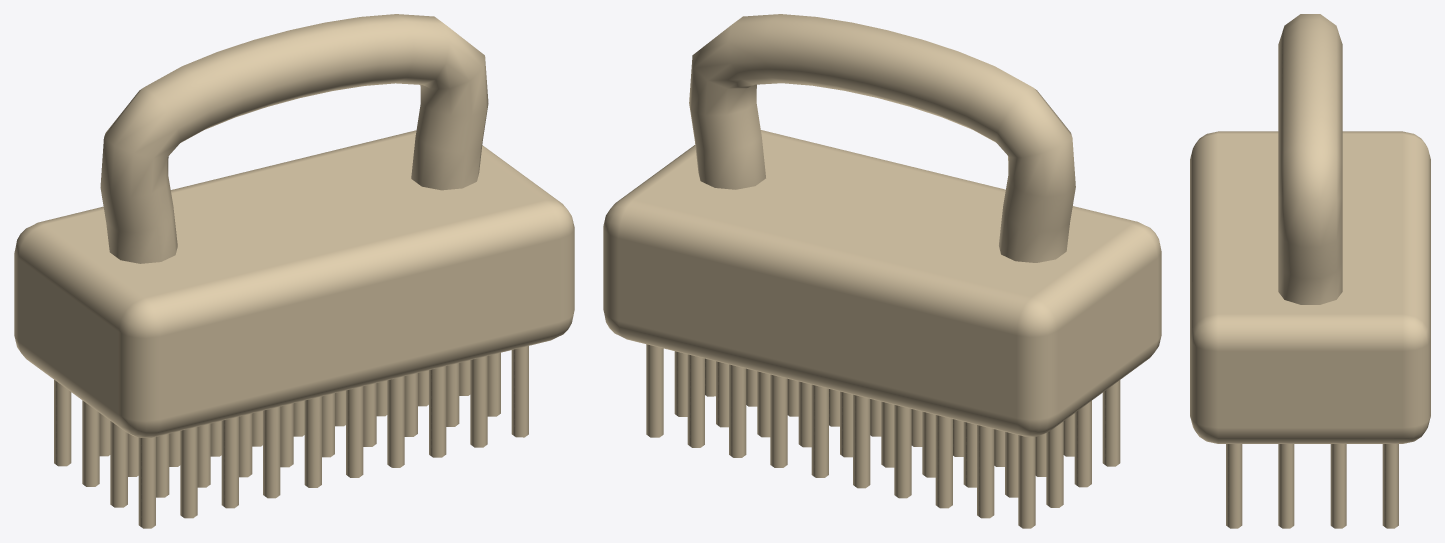
Rendered from cheesemaking-and-dairy-cellar-rind-washing-brush-fe72cf5a__30888.glb.
3 renders of one model, left to right at view 1: azimuth 30°, elevation 25°; view 2: azimuth 150°, elevation 25°; view 3: azimuth 270°, elevation 25°, orthographic. The views are drawn at different scales.
Visible parts, largest first — view 1: rind-washing-brush; view 2: rind-washing-brush; view 3: rind-washing-brush.
Boxes of the visible parts, bbox=[...] form: rind-washing-brush: bbox=[14, 14, 574, 528]; rind-washing-brush: bbox=[603, 14, 1161, 528]; rind-washing-brush: bbox=[1190, 14, 1430, 528].
Size of the model in its own units: 0.12 by 0.1052 by 0.06.
